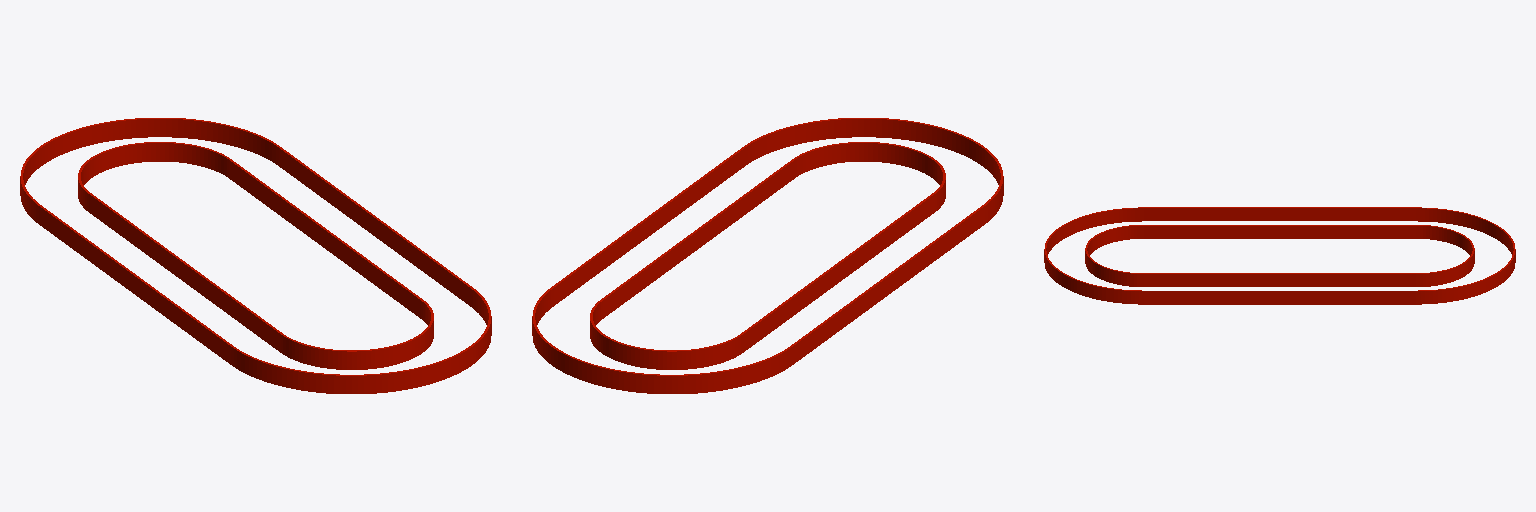
--- What the picture shows (computed from the rendered views, not written in the file) ---
Views: 3 orthographic renders of the robot side by side, from view 1: azimuth 30°, elevation 25°; view 2: azimuth 150°, elevation 25°; view 3: azimuth 270°, elevation 25°.
Model basic_racetrack with 76 links and 75 joints (75 fixed), rooted at left_in, posed all joints at 0.
Visible links, largest first — view 1: right_in, left_in, left_out, right_out; view 2: right_in, left_in, left_out, right_out; view 3: left_in, left_out, right_in, right_out.
Link boxes in pixels (left/top/right/bottom): right_in: left=229, top=159, right=422, bottom=318; left_in: left=89, top=193, right=282, bottom=352; left_out: left=39, top=205, right=232, bottom=364; right_out: left=279, top=147, right=471, bottom=305; right_in: left=601, top=159, right=794, bottom=318; left_in: left=741, top=193, right=934, bottom=352; left_out: left=791, top=205, right=984, bottom=364; right_out: left=552, top=147, right=744, bottom=305; left_in: left=1144, top=225, right=1415, bottom=238; left_out: left=1144, top=207, right=1415, bottom=220; right_in: left=1144, top=273, right=1415, bottom=286; right_out: left=1144, top=291, right=1415, bottom=304.
Bounding box of the posed robot: 10.2 × 24.2 × 0.75 m (x, y, z).
Meshes: 2 distinct files referenced, 72 mesh visuals loaded (2 binary STL).

URDF robot description (basic_racetrack):
<?xml version="1.0"?> 

<!-- Copyright 2023 Shathushan Sivashangaran -->

<!-- Licensed under the Apache License, Version 2.0 (the "License"); -->
<!-- you may not use this file except in compliance with the License. -->
<!-- You may obtain a copy of the License at -->

<!--     http://www.apache.org/licenses/LICENSE-2.0 -->

<!-- Unless required by applicable law or agreed to in writing, software -->
<!-- distributed under the License is distributed on an "AS IS" BASIS, -->
<!-- WITHOUT WARRANTIES OR CONDITIONS OF ANY KIND, either express or implied. -->
<!-- See the License for the specific language governing permissions and -->
<!-- limitations under the License. -->

<!-- Authors: Shathushan Sivashangaran, Apoorva Khairnar -->

<robot name="basic_racetrack">
    <link name="left_in">
        <visual>
            <origin xyz="-2.95 0 0.375" rpy="0 0 0" />
            <geometry>
                <box size='0.1 14 0.75'/>
            </geometry>
            <material name="red">
                <color rgba="0.8 0.1 0.0 1"/>
            </material>
        </visual>
        <collision>
            <origin xyz="-2.95 0 0.375" rpy="0 0 0" />
            <geometry>
                <box size='0.1 14 0.75'/>
            </geometry>
        </collision>
        <inertial>
            <mass value="10"/>
            <inertia ixx="0.4" ixy="0.0" ixz="0.0" iyy="0.4" iyz="0.0" izz="0.2" />
        </inertial>
    </link>
    <link name="left_out">
        <visual>
            <origin xyz="0 0 0.375" rpy="0 0 0" />
            <geometry>
                <box size='0.1 14 0.75'/>
            </geometry>
            <material name="red">
                <color rgba="0.8 0.1 0.0 1"/>
            </material>
        </visual>
        <collision>
            <origin xyz="0 0 0.375" rpy="0 0 0" />
            <geometry>
                <box size='0.1 14 0.75'/>
            </geometry>
        </collision>
        <inertial>
            <mass value="10"/>
            <inertia ixx="0.4" ixy="0.0" ixz="0.0" iyy="0.4" iyz="0.0" izz="0.2" />
        </inertial>
    </link>
    <joint name="left" type="fixed">
        <origin rpy="0 0 0" xyz="-5.05 0 0"/>
        <parent link="left_in"/>
        <child link="left_out"/>
    </joint>

    <link name="right_in">
        <visual>
            <origin xyz="0 0 0.375" rpy="0 0 0" />
            <geometry>
                <box size='0.1 14 0.75'/>
            </geometry>
            <material name="red">
                <color rgba="0.8 0.1 0.0 1"/>
            </material>
        </visual>
        <collision>
            <origin xyz="0 0 0.375" rpy="0 0 0" />
            <geometry>
                <box size='0.1 14 0.75'/>
            </geometry>
        </collision>
        <inertial>
            <mass value="10"/>
            <inertia ixx="0.4" ixy="0.0" ixz="0.0" iyy="0.4" iyz="0.0" izz="0.2" />
        </inertial>
    </link>
    <joint name="left_to_right" type="fixed">
        <origin rpy="0 0 0" xyz="2.95 0 0"/>
        <parent link="left_in"/>
        <child link="right_in"/>
    </joint>

    <link name="right_out">
        <visual>
            <origin xyz="0 0 0.375" rpy="0 0 0" />
            <geometry>
                <box size='0.1 14 0.75'/>
            </geometry>
            <material name="red">
                <color rgba="0.8 0.1 0.0 1"/>
            </material>
        </visual>
        <collision>
            <origin xyz="0 0 0.375" rpy="0 0 0" />
            <geometry>
                <box size='0.1 14 0.75'/>
            </geometry>
        </collision>
        <inertial>
            <mass value="10"/>
            <inertia ixx="0.4" ixy="0.0" ixz="0.0" iyy="0.4" iyz="0.0" izz="0.2" />
        </inertial>
    </link>
    <joint name="right" type="fixed">
        <origin rpy="0 0 0" xyz="2.1 0 0"/>
        <parent link="right_in"/>
        <child link="right_out"/>
    </joint>

    <!-- FRONT LEFT INNER CURVE START -->

    <link name="curve_in_fl_1">
        <visual>
            <origin xyz="0 0 0" rpy="0 0 0" />
            <geometry>
                <mesh filename='meshes/basic_racetrack_in_curve.stl'/>
            </geometry>
            <material name="red">
                <color rgba="0.8 0.1 0.0 1"/>
            </material>
        </visual>
        <collision>
            <origin xyz="0 0 0" rpy="0 0 0" />
            <geometry>
                <mesh filename='meshes/basic_racetrack_in_curve.stl'/>
            </geometry>
        </collision>
        <inertial>
            <mass value="10"/>
            <inertia ixx="0.4" ixy="0.0" ixz="0.0" iyy="0.4" iyz="0.0" izz="0.2" />
        </inertial>
    </link>    
    <joint name="curve_in_front_left1" type="fixed">
        <origin rpy="0 0 0" xyz="0 7 0"/>
        <parent link="left_in"/>
        <child link="curve_in_fl_1"/>
    </joint>

    <link name="curve_in_fl_2">
        <visual>
            <origin xyz="0 0 0" rpy="0 0 0" />
            <geometry>
                <mesh filename='meshes/basic_racetrack_in_curve.stl'/>
            </geometry>
            <material name="red">
                <color rgba="0.8 0.1 0.0 1"/>
            </material>
        </visual>
        <collision>
            <origin xyz="0 0 0" rpy="0 0 0" />
            <geometry>
                <mesh filename='meshes/basic_racetrack_in_curve.stl'/>
            </geometry>
        </collision>
        <inertial>
            <mass value="10"/>
            <inertia ixx="0.4" ixy="0.0" ixz="0.0" iyy="0.4" iyz="0.0" izz="0.2" />
        </inertial>
    </link>    
    <joint name="curve_in_front_left2" type="fixed">
        <origin rpy="0 0 -0.17456" xyz="0 7 0"/>
        <parent link="left_in"/>
        <child link="curve_in_fl_2"/>
    </joint>

    <link name="curve_in_fl_3">
        <visual>
            <origin xyz="0 0 0" rpy="0 0 0" />
            <geometry>
                <mesh filename='meshes/basic_racetrack_in_curve.stl'/>
            </geometry>
            <material name="red">
                <color rgba="0.8 0.1 0.0 1"/>
            </material>
        </visual>
        <collision>
            <origin xyz="0 0 0" rpy="0 0 0" />
            <geometry>
                <mesh filename='meshes/basic_racetrack_in_curve.stl'/>
            </geometry>
        </collision>
        <inertial>
            <mass value="10"/>
            <inertia ixx="0.4" ixy="0.0" ixz="0.0" iyy="0.4" iyz="0.0" izz="0.2" />
        </inertial>
    </link>    
    <joint name="curve_in_front_left3" type="fixed">
        <origin rpy="0 0 -0.34912" xyz="0 7 0"/>
        <parent link="left_in"/>
        <child link="curve_in_fl_3"/>
    </joint>

    <link name="curve_in_fl_4">
        <visual>
            <origin xyz="0 0 0" rpy="0 0 0" />
            <geometry>
                <mesh filename='meshes/basic_racetrack_in_curve.stl'/>
            </geometry>
            <material name="red">
                <color rgba="0.8 0.1 0.0 1"/>
            </material>
        </visual>
        <collision>
            <origin xyz="0 0 0" rpy="0 0 0" />
            <geometry>
                <mesh filename='meshes/basic_racetrack_in_curve.stl'/>
            </geometry>
        </collision>
        <inertial>
            <mass value="10"/>
            <inertia ixx="0.4" ixy="0.0" ixz="0.0" iyy="0.4" iyz="0.0" izz="0.2" />
        </inertial>
    </link>    
    <joint name="curve_in_front_left4" type="fixed">
        <origin rpy="0 0 -0.52368" xyz="0 7 0"/>
        <parent link="left_in"/>
        <child link="curve_in_fl_4"/>
    </joint>

    <link name="curve_in_fl_5">
        <visual>
            <origin xyz="0 0 0" rpy="0 0 0" />
            <geometry>
                <mesh filename='meshes/basic_racetrack_in_curve.stl'/>
            </geometry>
            <material name="red">
                <color rgba="0.8 0.1 0.0 1"/>
            </material>
        </visual>
        <collision>
            <origin xyz="0 0 0" rpy="0 0 0" />
            <geometry>
                <mesh filename='meshes/basic_racetrack_in_curve.stl'/>
            </geometry>
        </collision>
        <inertial>
            <mass value="10"/>
            <inertia ixx="0.4" ixy="0.0" ixz="0.0" iyy="0.4" iyz="0.0" izz="0.2" />
        </inertial>
    </link>    
    <joint name="curve_in_front_left5" type="fixed">
        <origin rpy="0 0 -0.69824" xyz="0 7 0"/>
        <parent link="left_in"/>
        <child link="curve_in_fl_5"/>
    </joint>

    <link name="curve_in_fl_6">
        <visual>
            <origin xyz="0 0 0" rpy="0 0 0" />
            <geometry>
                <mesh filename='meshes/basic_racetrack_in_curve.stl'/>
            </geometry>
            <material name="red">
                <color rgba="0.8 0.1 0.0 1"/>
            </material>
        </visual>
        <collision>
            <origin xyz="0 0 0" rpy="0 0 0" />
            <geometry>
                <mesh filename='meshes/basic_racetrack_in_curve.stl'/>
            </geometry>
        </collision>
        <inertial>
            <mass value="10"/>
            <inertia ixx="0.4" ixy="0.0" ixz="0.0" iyy="0.4" iyz="0.0" izz="0.2" />
        </inertial>
    </link>    
    <joint name="curve_in_front_left6" type="fixed">
        <origin rpy="0 0 -0.8728" xyz="0 7 0"/>
        <parent link="left_in"/>
        <child link="curve_in_fl_6"/>
    </joint>

    <link name="curve_in_fl_7">
        <visual>
            <origin xyz="0 0 0" rpy="0 0 0" />
            <geometry>
                <mesh filename='meshes/basic_racetrack_in_curve.stl'/>
            </geometry>
            <material name="red">
                <color rgba="0.8 0.1 0.0 1"/>
            </material>
        </visual>
        <collision>
            <origin xyz="0 0 0" rpy="0 0 0" />
            <geometry>
                <mesh filename='meshes/basic_racetrack_in_curve.stl'/>
            </geometry>
        </collision>
        <inertial>
            <mass value="10"/>
            <inertia ixx="0.4" ixy="0.0" ixz="0.0" iyy="0.4" iyz="0.0" izz="0.2" />
        </inertial>
    </link>    
    <joint name="curve_in_front_left7" type="fixed">
        <origin rpy="0 0 -1.04736" xyz="0 7 0"/>
        <parent link="left_in"/>
        <child link="curve_in_fl_7"/>
    </joint>

    <link name="curve_in_fl_8">
        <visual>
            <origin xyz="0 0 0" rpy="0 0 0" />
            <geometry>
                <mesh filename='meshes/basic_racetrack_in_curve.stl'/>
            </geometry>
            <material name="red">
                <color rgba="0.8 0.1 0.0 1"/>
            </material>
        </visual>
        <collision>
            <origin xyz="0 0 0" rpy="0 0 0" />
            <geometry>
                <mesh filename='meshes/basic_racetrack_in_curve.stl'/>
            </geometry>
        </collision>
        <inertial>
            <mass value="10"/>
            <inertia ixx="0.4" ixy="0.0" ixz="0.0" iyy="0.4" iyz="0.0" izz="0.2" />
        </inertial>
    </link>    
    <joint name="curve_in_front_left8" type="fixed">
        <origin rpy="0 0 -1.22192" xyz="0 7 0"/>
        <parent link="left_in"/>
        <child link="curve_in_fl_8"/>
    </joint>

    <link name="curve_in_fl_9">
        <visual>
            <origin xyz="0 0 0" rpy="0 0 0" />
            <geometry>
                <mesh filename='meshes/basic_racetrack_in_curve.stl'/>
            </geometry>
            <material name="red">
                <color rgba="0.8 0.1 0.0 1"/>
            </material>
        </visual>
        <collision>
            <origin xyz="0 0 0" rpy="0 0 0" />
            <geometry>
                <mesh filename='meshes/basic_racetrack_in_curve.stl'/>
            </geometry>
        </collision>
        <inertial>
            <mass value="10"/>
            <inertia ixx="0.4" ixy="0.0" ixz="0.0" iyy="0.4" iyz="0.0" izz="0.2" />
        </inertial>
    </link>    
    <joint name="curve_in_front_left9" type="fixed">
        <origin rpy="0 0 -1.39648" xyz="0 7 0"/>
        <parent link="left_in"/>
        <child link="curve_in_fl_9"/>
    </joint>

    <!-- FRONT LEFT INNER CURVE END -->

    <!-- BACK LEFT INNER CURVE START -->

    <link name="curve_in_bl_1">
        <visual>
            <origin xyz="0 0 0" rpy="0 0 0" />
            <geometry>
                <mesh filename='meshes/basic_racetrack_in_curve.stl'/>
            </geometry>
            <material name="red">
                <color rgba="0.8 0.1 0.0 1"/>
            </material>
        </visual>
        <collision>
            <origin xyz="0 0 0" rpy="0 0 0" />
            <geometry>
                <mesh filename='meshes/basic_racetrack_in_curve.stl'/>
            </geometry>
        </collision>
        <inertial>
            <mass value="10"/>
            <inertia ixx="0.4" ixy="0.0" ixz="0.0" iyy="0.4" iyz="0.0" izz="0.2" />
        </inertial>
    </link>    
    <joint name="curve_in_back_left1" type="fixed">
        <origin rpy="0 0 0.17456" xyz="0 -7 0"/>
        <parent link="left_in"/>
        <child link="curve_in_bl_1"/>
    </joint>

    <link name="curve_in_bl_2">
        <visual>
            <origin xyz="0 0 0" rpy="0 0 0" />
            <geometry>
                <mesh filename='meshes/basic_racetrack_in_curve.stl'/>
            </geometry>
            <material name="red">
                <color rgba="0.8 0.1 0.0 1"/>
            </material>
        </visual>
        <collision>
            <origin xyz="0 0 0" rpy="0 0 0" />
            <geometry>
                <mesh filename='meshes/basic_racetrack_in_curve.stl'/>
            </geometry>
        </collision>
        <inertial>
            <mass value="10"/>
            <inertia ixx="0.4" ixy="0.0" ixz="0.0" iyy="0.4" iyz="0.0" izz="0.2" />
        </inertial>
    </link>    
    <joint name="curve_in_back_left2" type="fixed">
        <origin rpy="0 0 0.34912" xyz="0 -7 0"/>
        <parent link="left_in"/>
        <child link="curve_in_bl_2"/>
    </joint>

    <link name="curve_in_bl_3">
        <visual>
            <origin xyz="0 0 0" rpy="0 0 0" />
            <geometry>
                <mesh filename='meshes/basic_racetrack_in_curve.stl'/>
            </geometry>
            <material name="red">
                <color rgba="0.8 0.1 0.0 1"/>
            </material>
        </visual>
        <collision>
            <origin xyz="0 0 0" rpy="0 0 0" />
            <geometry>
                <mesh filename='meshes/basic_racetrack_in_curve.stl'/>
            </geometry>
        </collision>
        <inertial>
            <mass value="10"/>
            <inertia ixx="0.4" ixy="0.0" ixz="0.0" iyy="0.4" iyz="0.0" izz="0.2" />
        </inertial>
    </link>    
    <joint name="curve_in_back_left3" type="fixed">
        <origin rpy="0 0 0.52368" xyz="0 -7 0"/>
        <parent link="left_in"/>
        <child link="curve_in_bl_3"/>
    </joint>

    <link name="curve_in_bl_4">
        <visual>
            <origin xyz="0 0 0" rpy="0 0 0" />
            <geometry>
                <mesh filename='meshes/basic_racetrack_in_curve.stl'/>
            </geometry>
            <material name="red">
                <color rgba="0.8 0.1 0.0 1"/>
            </material>
        </visual>
        <collision>
            <origin xyz="0 0 0" rpy="0 0 0" />
            <geometry>
                <mesh filename='meshes/basic_racetrack_in_curve.stl'/>
            </geometry>
        </collision>
        <inertial>
            <mass value="10"/>
            <inertia ixx="0.4" ixy="0.0" ixz="0.0" iyy="0.4" iyz="0.0" izz="0.2" />
        </inertial>
    </link>    
    <joint name="curve_in_back_left4" type="fixed">
        <origin rpy="0 0 0.69824" xyz="0 -7 0"/>
        <parent link="left_in"/>
        <child link="curve_in_bl_4"/>
    </joint>

    <link name="curve_in_bl_5">
        <visual>
            <origin xyz="0 0 0" rpy="0 0 0" />
            <geometry>
                <mesh filename='meshes/basic_racetrack_in_curve.stl'/>
            </geometry>
            <material name="red">
                <color rgba="0.8 0.1 0.0 1"/>
            </material>
        </visual>
        <collision>
            <origin xyz="0 0 0" rpy="0 0 0" />
            <geometry>
                <mesh filename='meshes/basic_racetrack_in_curve.stl'/>
            </geometry>
        </collision>
        <inertial>
            <mass value="10"/>
            <inertia ixx="0.4" ixy="0.0" ixz="0.0" iyy="0.4" iyz="0.0" izz="0.2" />
        </inertial>
    </link>    
    <joint name="curve_in_back_left5" type="fixed">
        <origin rpy="0 0 0.8728" xyz="0 -7 0"/>
        <parent link="left_in"/>
        <child link="curve_in_bl_5"/>
    </joint>

    <link name="curve_in_bl_6">
        <visual>
            <origin xyz="0 0 0" rpy="0 0 0" />
            <geometry>
                <mesh filename='meshes/basic_racetrack_in_curve.stl'/>
            </geometry>
            <material name="red">
                <color rgba="0.8 0.1 0.0 1"/>
            </material>
        </visual>
        <collision>
            <origin xyz="0 0 0" rpy="0 0 0" />
            <geometry>
                <mesh filename='meshes/basic_racetrack_in_curve.stl'/>
            </geometry>
        </collision>
        <inertial>
            <mass value="10"/>
            <inertia ixx="0.4" ixy="0.0" ixz="0.0" iyy="0.4" iyz="0.0" izz="0.2" />
        </inertial>
    </link>    
    <joint name="curve_in_back_left6" type="fixed">
        <origin rpy="0 0 1.04736" xyz="0 -7 0"/>
        <parent link="left_in"/>
        <child link="curve_in_bl_6"/>
    </joint>

    <link name="curve_in_bl_7">
        <visual>
            <origin xyz="0 0 0" rpy="0 0 0" />
            <geometry>
                <mesh filename='meshes/basic_racetrack_in_curve.stl'/>
            </geometry>
            <material name="red">
                <color rgba="0.8 0.1 0.0 1"/>
            </material>
        </visual>
        <collision>
            <origin xyz="0 0 0" rpy="0 0 0" />
            <geometry>
                <mesh filename='meshes/basic_racetrack_in_curve.stl'/>
            </geometry>
        </collision>
        <inertial>
            <mass value="10"/>
            <inertia ixx="0.4" ixy="0.0" ixz="0.0" iyy="0.4" iyz="0.0" izz="0.2" />
        </inertial>
    </link>    
    <joint name="curve_in_back_left7" type="fixed">
        <origin rpy="0 0 1.22192" xyz="0 -7 0"/>
        <parent link="left_in"/>
        <child link="curve_in_bl_7"/>
    </joint>

    <link name="curve_in_bl_8">
        <visual>
            <origin xyz="0 0 0" rpy="0 0 0" />
            <geometry>
                <mesh filename='meshes/basic_racetrack_in_curve.stl'/>
            </geometry>
            <material name="red">
                <color rgba="0.8 0.1 0.0 1"/>
            </material>
        </visual>
        <collision>
            <origin xyz="0 0 0" rpy="0 0 0" />
            <geometry>
                <mesh filename='meshes/basic_racetrack_in_curve.stl'/>
            </geometry>
        </collision>
        <inertial>
            <mass value="10"/>
            <inertia ixx="0.4" ixy="0.0" ixz="0.0" iyy="0.4" iyz="0.0" izz="0.2" />
        </inertial>
    </link>    
    <joint name="curve_in_back_left8" type="fixed">
        <origin rpy="0 0 1.39648" xyz="0 -7 0"/>
        <parent link="left_in"/>
        <child link="curve_in_bl_8"/>
    </joint>

    <link name="curve_in_bl_9">
        <visual>
            <origin xyz="0 0 0" rpy="0 0 0" />
            <geometry>
                <mesh filename='meshes/basic_racetrack_in_curve.stl'/>
            </geometry>
            <material name="red">
                <color rgba="0.8 0.1 0.0 1"/>
            </material>
        </visual>
        <collision>
            <origin xyz="0 0 0" rpy="0 0 0" />
            <geometry>
                <mesh filename='meshes/basic_racetrack_in_curve.stl'/>
            </geometry>
        </collision>
        <inertial>
            <mass value="10"/>
            <inertia ixx="0.4" ixy="0.0" ixz="0.0" iyy="0.4" iyz="0.0" izz="0.2" />
        </inertial>
    </link>    
    <joint name="curve_in_back_left9" type="fixed">
        <origin rpy="0 0 1.57104" xyz="0 -7 0"/>
        <parent link="left_in"/>
        <child link="curve_in_bl_9"/>
    </joint>

    <!-- BACK LEFT INNER CURVE END   -->

    <!-- FRONT RIGHT INNER CURVE START -->

    <link name="curve_in_fr_1">
        <visual>
            <origin xyz="0 0 0" rpy="0 0 0" />
            <geometry>
                <mesh filename='meshes/basic_racetrack_in_curve.stl'/>
            </geometry>
            <material name="red">
                <color rgba="0.8 0.1 0.0 1"/>
            </material>
        </visual>
        <collision>
            <origin xyz="0 0 0" rpy="0 0 0" />
            <geometry>
                <mesh filename='meshes/basic_racetrack_in_curve.stl'/>
            </geometry>
        </collision>
        <inertial>
            <mass value="10"/>
            <inertia ixx="0.4" ixy="0.0" ixz="0.0" iyy="0.4" iyz="0.0" izz="0.2" />
        </inertial>
    </link>    
    <joint name="curve_in_front_right1" type="fixed">
        <origin rpy="0 0 -1.57104" xyz="0 7 0"/>
        <parent link="left_in"/>
        <child link="curve_in_fr_1"/>
    </joint>

    <link name="curve_in_fr_2">
        <visual>
            <origin xyz="0 0 0" rpy="0 0 0" />
            <geometry>
                <mesh filename='meshes/basic_racetrack_in_curve.stl'/>
            </geometry>
            <material name="red">
                <color rgba="0.8 0.1 0.0 1"/>
            </material>
        </visual>
        <collision>
            <origin xyz="0 0 0" rpy="0 0 0" />
            <geometry>
                <mesh filename='meshes/basic_racetrack_in_curve.stl'/>
            </geometry>
        </collision>
        <inertial>
            <mass value="10"/>
            <inertia ixx="0.4" ixy="0.0" ixz="0.0" iyy="0.4" iyz="0.0" izz="0.2" />
        </inertial>
    </link>    
    <joint name="curve_in_front_right2" type="fixed">
        <origin rpy="0 0 -1.7456" xyz="0 7 0"/>
        <parent link="left_in"/>
        <child link="curve_in_fr_2"/>
    </joint>

    <link name="curve_in_fr_3">
        <visual>
            <origin xyz="0 0 0" rpy="0 0 0" />
            <geometry>
                <mesh filename='meshes/basic_racetrack_in_curve.stl'/>
            </geometry>
            <material name="red">
                <color rgba="0.8 0.1 0.0 1"/>
            </material>
        </visual>
        <collision>
            <origin xyz="0 0 0" rpy="0 0 0" />
            <geometry>
                <mesh filename='meshes/basic_racetrack_in_curve.stl'/>
            </geometry>
        </collision>
        <inertial>
            <mass value="10"/>
            <inertia ixx="0.4" ixy="0.0" ixz="0.0" iyy="0.4" iyz="0.0" izz="0.2" />
        </inertial>
    </link>    
    <joint name="curve_in_front_right3" type="fixed">
        <origin rpy="0 0 -1.92016" xyz="0 7 0"/>
        <parent link="left_in"/>
        <child link="curve_in_fr_3"/>
    </joint>

    <link name="curve_in_fr_4">
        <visual>
            <origin xyz="0 0 0" rpy="0 0 0" />
            <geometry>
                <mesh filename='meshes/basic_racetrack_in_curve.stl'/>
            </geometry>
            <material name="red">
                <color rgba="0.8 0.1 0.0 1"/>
            </material>
        </visual>
        <collision>
            <origin xyz="0 0 0" rpy="0 0 0" />
            <geometry>
                <mesh filename='meshes/basic_racetrack_in_curve.stl'/>
            </geometry>
        </collision>
        <inertial>
            <mass value="10"/>
            <inertia ixx="0.4" ixy="0.0" ixz="0.0" iyy="0.4" iyz="0.0" izz="0.2" />
        </inertial>
    </link>    
    <joint name="curve_in_front_right4" type="fixed">
        <origin rpy="0 0 -2.09472" xyz="0 7 0"/>
        <parent link="left_in"/>
        <child link="curve_in_fr_4"/>
    </joint>

    <link name="curve_in_fr_5">
        <visual>
            <origin xyz="0 0 0" rpy="0 0 0" />
            <geometry>
                <mesh filename='meshes/basic_racetrack_in_curve.stl'/>
            </geometry>
            <material name="red">
                <color rgba="0.8 0.1 0.0 1"/>
            </material>
        </visual>
        <collision>
            <origin xyz="0 0 0" rpy="0 0 0" />
            <geometry>
                <mesh filename='meshes/basic_racetrack_in_curve.stl'/>
            </geometry>
        </collision>
        <inertial>
            <mass value="10"/>
            <inertia ixx="0.4" ixy="0.0" ixz="0.0" iyy="0.4" iyz="0.0" izz="0.2" />
        </inertial>
    </link>    
    <joint name="curve_in_front_right5" type="fixed">
        <origin rpy="0 0 -2.26928" xyz="0 7 0"/>
        <parent link="left_in"/>
        <child link="curve_in_fr_5"/>
    </joint>

    <link name="curve_in_fr_6">
        <visual>
            <origin xyz="0 0 0" rpy="0 0 0" />
            <geometry>
                <mesh filename='meshes/basic_racetrack_in_curve.stl'/>
            </geometry>
            <material name="red">
                <color rgba="0.8 0.1 0.0 1"/>
            </material>
        </visual>
        <collision>
            <origin xyz="0 0 0" rpy="0 0 0" />
            <geometry>
                <mesh filename='meshes/basic_racetrack_in_curve.stl'/>
            </geometry>
        </collision>
        <inertial>
            <mass value="10"/>
            <inertia ixx="0.4" ixy="0.0" ixz="0.0" iyy="0.4" iyz="0.0" izz="0.2" />
        </inertial>
    </link>    
    <joint name="curve_in_front_right6" type="fixed">
        <origin rpy="0 0 -2.44384" xyz="0 7 0"/>
        <parent link="left_in"/>
        <child link="curve_in_fr_6"/>
    </joint>

    <link name="curve_in_fr_7">
        <visual>
            <origin xyz="0 0 0" rpy="0 0 0" />
            <geometry>
                <mesh filename='meshes/basic_racetrack_in_curve.stl'/>
            </geometry>
            <material name="red">
                <color rgba="0.8 0.1 0.0 1"/>
            </material>
        </visual>
        <collision>
            <origin xyz="0 0 0" rpy="0 0 0" />
            <geometry>
                <mesh filename='meshes/basic_racetrack_in_curve.stl'/>
            </geometry>
        </collision>
        <inertial>
            <mass value="10"/>
            <inertia ixx="0.4" ixy="0.0" ixz="0.0" iyy="0.4" iyz="0.0" izz="0.2" />
        </inertial>
    </link>    
    <joint name="curve_in_front_right7" type="fixed">
        <origin rpy="0 0 -2.6184" xyz="0 7 0"/>
        <parent link="left_in"/>
        <child link="curve_in_fr_7"/>
    </joint>

    <link name="curve_in_fr_8">
        <visual>
            <origin xyz="0 0 0" rpy="0 0 0" />
            <geometry>
                <mesh filename='meshes/basic_racetrack_in_curve.stl'/>
            </geometry>
            <material name="red">
                <color rgba="0.8 0.1 0.0 1"/>
            </material>
        </visual>
        <collision>
            <origin xyz="0 0 0" rpy="0 0 0" />
            <geometry>
                <mesh filename='meshes/basic_racetrack_in_curve.stl'/>
            </geometry>
        </collision>
        <inertial>
            <mass value="10"/>
            <inertia ixx="0.4" ixy="0.0" ixz="0.0" iyy="0.4" iyz="0.0" izz="0.2" />
        </inertial>
    </link>    
    <joint name="curve_in_front_right8" type="fixed">
        <origin rpy="0 0 -2.79296" xyz="0 7 0"/>
        <parent link="left_in"/>
        <child link="curve_in_fr_8"/>
    </joint>

    <link name="curve_in_fr_9">
        <visual>
            <origin xyz="0 0 0" rpy="0 0 0" />
            <geometry>
                <mesh filename='meshes/basic_racetrack_in_curve.stl'/>
            </geometry>
            <material name="red">
                <color rgba="0.8 0.1 0.0 1"/>
            </material>
        </visual>
        <collision>
            <origin xyz="0 0 0" rpy="0 0 0" />
            <geometry>
                <mesh filename='meshes/basic_racetrack_in_curve.stl'/>
            </geometry>
        </collision>
        <inertial>
            <mass value="10"/>
            <inertia ixx="0.4" ixy="0.0" ixz="0.0" iyy="0.4" iyz="0.0" izz="0.2" />
        </inertial>
    </link>    
    <joint name="curve_in_front_right9" type="fixed">
        <origin rpy="0 0 -2.96752" xyz="0 7 0"/>
        <parent link="left_in"/>
        <child link="curve_in_fr_9"/>
    </joint>

    <!-- FRONT RIGHT INNER CURVE END -->

    <!-- BACK RIGHT INNER CURVE START -->

    <link name="curve_in_br_1">
        <visual>
            <origin xyz="0 0 0" rpy="0 0 0" />
            <geometry>
                <mesh filename='meshes/basic_racetrack_in_curve.stl'/>
            </geometry>
            <material name="red">
                <color rgba="0.8 0.1 0.0 1"/>
            </material>
        </visual>
        <collision>
            <origin xyz="0 0 0" rpy="0 0 0" />
            <geometry>
                <mesh filename='meshes/basic_racetrack_in_curve.stl'/>
            </geometry>
        </collision>
        <inertial>
            <mass value="10"/>
            <inertia ixx="0.4" ixy="0.0" ixz="0.0" iyy="0.4" iyz="0.0" izz="0.2" />
        </inertial>
    </link>    
    <joint name="curve_in_back_right1" type="fixed">
        <origin rpy="0 0 1.7456" xyz="0 -7 0"/>
        <parent link="left_in"/>
        <child link="curve_in_br_1"/>
    </joint>

    <link name="curve_in_br_2">
        <visual>
            <origin xyz="0 0 0" rpy="0 0 0" />
            <geometry>
                <mesh filename='meshes/basic_racetrack_in_curve.stl'/>
            </geometry>
            <material name="red">
                <color rgba="0.8 0.1 0.0 1"/>
            </material>
        </visual>
        <collision>
            <origin xyz="0 0 0" rpy="0 0 0" />
            <geometry>
                <mesh filename='meshes/basic_racetrack_in_curve.stl'/>
            </geometry>
        </collision>
        <inertial>
            <mass value="10"/>
            <inertia ixx="0.4" ixy="0.0" ixz="0.0" iyy="0.4" iyz="0.0" izz="0.2" />
        </inertial>
    </link>    
    <joint name="curve_in_back_right2" type="fixed">
        <origin rpy="0 0 1.92016" xyz="0 -7 0"/>
        <parent link="left_in"/>
        <child link="curve_in_br_2"/>
    </joint>

    <link name="curve_in_br_3">
        <visual>
            <origin xyz="0 0 0" rpy="0 0 0" />
            <geometry>
                <mesh filename='meshes/basic_racetrack_in_curve.stl'/>
            </geometry>
            <material name="red">
                <color rgba="0.8 0.1 0.0 1"/>
            </material>
        </visual>
        <collision>
            <origin xyz="0 0 0" rpy="0 0 0" />
            <geometry>
                <mesh filename='meshes/basic_racetrack_in_curve.stl'/>
            </geometry>
        </collision>
        <inertial>
            <mass value="10"/>
            <inertia ixx="0.4" ixy="0.0" ixz="0.0" iyy="0.4" iyz="0.0" izz="0.2" />
        </inertial>
    </link>    
    <joint name="curve_in_back_right3" type="fixed">
        <origin rpy="0 0 2.09472" xyz="0 -7 0"/>
        <parent link="left_in"/>
        <child link="curve_in_br_3"/>
    </joint>

    <link name="curve_in_br_4">
        <visual>
            <origin xyz="0 0 0" rpy="0 0 0" />
            <geometry>
                <mesh filename='meshes/basic_racetrack_in_curve.stl'/>
            </geometry>
            <material name="red">
                <color rgba="0.8 0.1 0.0 1"/>
            </material>
        </visual>
        <collision>
            <origin xyz="0 0 0" rpy="0 0 0" />
            <geometry>
                <mesh filename='meshes/basic_racetrack_in_curve.stl'/>
            </geometry>
        </collision>
        <inertial>
            <mass value="10"/>
            <inertia ixx="0.4" ixy="0.0" ixz="0.0" iyy="0.4" iyz="0.0" izz="0.2" />
        </inertial>
    </link>    
    <joint name="curve_in_back_right4" type="fixed">
        <origin rpy="0 0 2.26928" xyz="0 -7 0"/>
        <parent link="left_in"/>
        <child link="curve_in_br_4"/>
    </joint>

    <link name="curve_in_br_5">
        <visual>
            <origin xyz="0 0 0" rpy="0 0 0" />
            <geometry>
                <mesh filename='meshes/basic_racetrack_in_curve.stl'/>
            </geometry>
            <material name="red">
                <color rgba="0.8 0.1 0.0 1"/>
            </material>
        </visual>
        <collision>
            <origin xyz="0 0 0" rpy="0 0 0" />
            <geometry>
                <mesh filename='meshes/basic_racetrack_in_curve.stl'/>
            </geometry>
        </collision>
        <inertial>
            <mass value="10"/>
            <inertia ixx="0.4" ixy="0.0" ixz="0.0" iyy="0.4" iyz="0.0" izz="0.2" />
        </inertial>
    </link>    
    <joint name="curve_in_back_right5" type="fixed">
        <origin rpy="0 0 2.44384" xyz="0 -7 0"/>
        <parent link="left_in"/>
        <child link="curve_in_br_5"/>
    </joint>

    <link name="curve_in_br_6">
        <visual>
            <origin xyz="0 0 0" rpy="0 0 0" />
            <geometry>
                <mesh filename='meshes/basic_racetrack_in_curve.stl'/>
            </geometry>
            <material name="red">
                <color rgba="0.8 0.1 0.0 1"/>
            </material>
        </visual>
        <collision>
            <origin xyz="0 0 0" rpy="0 0 0" />
            <geometry>
                <mesh filename='meshes/basic_racetrack_in_curve.stl'/>
            </geometry>
        </collision>
        <inertial>
            <mass value="10"/>
            <inertia ixx="0.4" ixy="0.0" ixz="0.0" iyy="0.4" iyz="0.0" izz="0.2" />
        </inertial>
    </link>    
    <joint name="curve_in_back_right6" type="fixed">
        <origin rpy="0 0 2.6184" xyz="0 -7 0"/>
        <parent link="left_in"/>
        <child link="curve_in_br_6"/>
    </joint>

    <link name="curve_in_br_7">
        <visual>
            <origin xyz="0 0 0" rpy="0 0 0" />
            <geometry>
                <mesh filename='meshes/basic_racetrack_in_curve.stl'/>
            </geometry>
            <material name="red">
                <color rgba="0.8 0.1 0.0 1"/>
            </material>
        </visual>
        <collision>
            <origin xyz="0 0 0" rpy="0 0 0" />
            <geometry>
                <mesh filename='meshes/basic_racetrack_in_curve.stl'/>
            </geometry>
        </collision>
        <inertial>
            <mass value="10"/>
            <inertia ixx="0.4" ixy="0.0" ixz="0.0" iyy="0.4" iyz="0.0" izz="0.2" />
        </inertial>
    </link>    
    <joint name="curve_in_back_right7" type="fixed">
        <origin rpy="0 0 2.79296" xyz="0 -7 0"/>
        <parent link="left_in"/>
        <child link="curve_in_br_7"/>
    </joint>

    <link name="curve_in_br_8">
        <visual>
            <origin xyz="0 0 0" rpy="0 0 0" />
            <geometry>
                <mesh filename='meshes/basic_racetrack_in_curve.stl'/>
            </geometry>
            <material name="red">
                <color rgba="0.8 0.1 0.0 1"/>
            </material>
        </visual>
        <collision>
            <origin xyz="0 0 0" rpy="0 0 0" />
            <geometry>
                <mesh filename='meshes/basic_racetrack_in_curve.stl'/>
            </geometry>
        </collision>
        <inertial>
            <mass value="10"/>
            <inertia ixx="0.4" ixy="0.0" ixz="0.0" iyy="0.4" iyz="0.0" izz="0.2" />
        </inertial>
    </link>    
    <joint name="curve_in_back_right8" type="fixed">
        <origin rpy="0 0 2.96752" xyz="0 -7 0"/>
        <parent link="left_in"/>
        <child link="curve_in_br_8"/>
    </joint>

    <link name="curve_in_br_9">
        <visual>
            <origin xyz="0 0 0" rpy="0 0 0" />
            <geometry>
                <mesh filename='meshes/basic_racetrack_in_curve.stl'/>
            </geometry>
            <material name="red">
                <color rgba="0.8 0.1 0.0 1"/>
            </material>
        </visual>
        <collision>
            <origin xyz="0 0 0" rpy="0 0 0" />
            <geometry>
                <mesh filename='meshes/basic_racetrack_in_curve.stl'/>
            </geometry>
        </collision>
        <inertial>
            <mass value="10"/>
            <inertia ixx="0.4" ixy="0.0" ixz="0.0" iyy="0.4" iyz="0.0" izz="0.2" />
        </inertial>
    </link>    
    <joint name="curve_in_back_right9" type="fixed">
        <origin rpy="0 0 3.14208" xyz="0 -7 0"/>
        <parent link="left_in"/>
        <child link="curve_in_br_9"/>
    </joint>

    <!-- BACK RIGHT INNER CURVE END -->

    <!-- FRONT LEFT INNER CURVE START -->
    
    <link name="curve_out_fl_1">
        <visual>
            <origin xyz="0 0 0" rpy="0 0 0" />
            <geometry>
                <mesh filename='meshes/basic_racetrack_out_curve.stl'/>
            </geometry>
            <material name="red">
                <color rgba="0.8 0.1 0.0 1"/>
            </material>
        </visual>
        <collision>
            <origin xyz="0 0 0" rpy="0 0 0" />
            <geometry>
                <mesh filename='meshes/basic_racetrack_out_curve.stl'/>
            </geometry>
        </collision>
        <inertial>
            <mass value="10"/>
            <inertia ixx="0.4" ixy="0.0" ixz="0.0" iyy="0.4" iyz="0.0" izz="0.2" />
        </inertial>
    </link>    
    <joint name="curve_out_front_left1" type="fixed">
        <origin rpy="0 0 0" xyz="0 7 0"/>
        <parent link="left_in"/>
        <child link="curve_out_fl_1"/>
    </joint>

    <link name="curve_out_fl_2">
        <visual>
            <origin xyz="0 0 0" rpy="0 0 0" />
            <geometry>
                <mesh filename='meshes/basic_racetrack_out_curve.stl'/>
            </geometry>
            <material name="red">
                <color rgba="0.8 0.1 0.0 1"/>
            </material>
        </visual>
        <collision>
            <origin xyz="0 0 0" rpy="0 0 0" />
            <geometry>
                <mesh filename='meshes/basic_racetrack_out_curve.stl'/>
            </geometry>
        </collision>
        <inertial>
            <mass value="10"/>
            <inertia ixx="0.4" ixy="0.0" ixz="0.0" iyy="0.4" iyz="0.0" izz="0.2" />
        </inertial>
    </link>    
    <joint name="curve_out_front_left2" type="fixed">
        <origin rpy="0 0 -0.17456" xyz="0 7 0"/>
        <parent link="left_in"/>
        <child link="curve_out_fl_2"/>
    </joint>

    <link name="curve_out_fl_3">
        <visual>
            <origin xyz="0 0 0" rpy="0 0 0" />
            <geometry>
                <mesh filename='meshes/basic_racetrack_out_curve.stl'/>
            </geometry>
            <material name="red">
                <color rgba="0.8 0.1 0.0 1"/>
            </material>
        </visual>
        <collision>
            <origin xyz="0 0 0" rpy="0 0 0" />
            <geometry>
                <mesh filename='meshes/basic_racetrack_out_curve.stl'/>
            </geometry>
        </collision>
        <inertial>
            <mass value="10"/>
            <inertia ixx="0.4" ixy="0.0" ixz="0.0" iyy="0.4" iyz="0.0" izz="0.2" />
        </inertial>
    </link>    
    <joint name="curve_out_front_left3" type="fixed">
        <origin rpy="0 0 -0.34912" xyz="0 7 0"/>
        <parent link="left_in"/>
        <child link="curve_out_fl_3"/>
    </joint>

    <link name="curve_out_fl_4">
        <visual>
            <origin xyz="0 0 0" rpy="0 0 0" />
            <geometry>
                <mesh filename='meshes/basic_racetrack_out_curve.stl'/>
            </geometry>
            <material name="red">
                <color rgba="0.8 0.1 0.0 1"/>
            </material>
        </visual>
        <collision>
            <origin xyz="0 0 0" rpy="0 0 0" />
            <geometry>
                <mesh filename='meshes/basic_racetrack_out_curve.stl'/>
            </geometry>
        </collision>
        <inertial>
            <mass value="10"/>
            <inertia ixx="0.4" ixy="0.0" ixz="0.0" iyy="0.4" iyz="0.0" izz="0.2" />
        </inertial>
    </link>    
    <joint name="curve_out_front_left4" type="fixed">
        <origin rpy="0 0 -0.52368" xyz="0 7 0"/>
        <parent link="left_in"/>
        <child link="curve_out_fl_4"/>
    </joint>

    <link name="curve_out_fl_5">
        <visual>
            <origin xyz="0 0 0" rpy="0 0 0" />
            <geometry>
                <mesh filename='meshes/basic_racetrack_out_curve.stl'/>
            </geometry>
            <material name="red">
                <color rgba="0.8 0.1 0.0 1"/>
            </material>
        </visual>
        <collision>
            <origin xyz="0 0 0" rpy="0 0 0" />
            <geometry>
                <mesh filename='meshes/basic_racetrack_out_curve.stl'/>
            </geometry>
        </collision>
        <inertial>
            <mass value="10"/>
            <inertia ixx="0.4" ixy="0.0" ixz="0.0" iyy="0.4" iyz="0.0" izz="0.2" />
        </inertial>
    </link>    
    <joint name="curve_out_front_left5" type="fixed">
        <origin rpy="0 0 -0.69824" xyz="0 7 0"/>
        <parent link="left_in"/>
        <child link="curve_out_fl_5"/>
    </joint>

    <link name="curve_out_fl_6">
        <visual>
            <origin xyz="0 0 0" rpy="0 0 0" />
            <geometry>
                <mesh filename='meshes/basic_racetrack_out_curve.stl'/>
            </geometry>
            <material name="red">
                <color rgba="0.8 0.1 0.0 1"/>
            </material>
        </visual>
        <collision>
            <origin xyz="0 0 0" rpy="0 0 0" />
            <geometry>
                <mesh filename='meshes/basic_racetrack_out_curve.stl'/>
            </geometry>
        </collision>
        <inertial>
            <mass value="10"/>
            <inertia ixx="0.4" ixy="0.0" ixz="0.0" iyy="0.4" iyz="0.0" izz="0.2" />
        </inertial>
    </link>    
    <joint name="curve_out_front_left6" type="fixed">
        <origin rpy="0 0 -0.8728" xyz="0 7 0"/>
        <parent link="left_in"/>
        <child link="curve_out_fl_6"/>
    </joint>

    <link name="curve_out_fl_7">
        <visual>
            <origin xyz="0 0 0" rpy="0 0 0" />
            <geometry>
                <mesh filename='meshes/basic_racetrack_out_curve.stl'/>
            </geometry>
            <material name="red">
                <color rgba="0.8 0.1 0.0 1"/>
            </material>
        </visual>
        <collision>
            <origin xyz="0 0 0" rpy="0 0 0" />
            <geometry>
                <mesh filename='meshes/basic_racetrack_out_curve.stl'/>
            </geometry>
        </collision>
        <inertial>
            <mass value="10"/>
            <inertia ixx="0.4" ixy="0.0" ixz="0.0" iyy="0.4" iyz="0.0" izz="0.2" />
        </inertial>
    </link>    
    <joint name="curve_out_front_left7" type="fixed">
        <origin rpy="0 0 -1.04736" xyz="0 7 0"/>
        <parent link="left_in"/>
        <child link="curve_out_fl_7"/>
    </joint>

    <link name="curve_out_fl_8">
        <visual>
            <origin xyz="0 0 0" rpy="0 0 0" />
            <geometry>
                <mesh filename='meshes/basic_racetrack_out_curve.stl'/>
            </geometry>
            <material name="red">
                <color rgba="0.8 0.1 0.0 1"/>
            </material>
        </visual>
        <collision>
            <origin xyz="0 0 0" rpy="0 0 0" />
            <geometry>
                <mesh filename='meshes/basic_racetrack_out_curve.stl'/>
            </geometry>
        </collision>
        <inertial>
            <mass value="10"/>
            <inertia ixx="0.4" ixy="0.0" ixz="0.0" iyy="0.4" iyz="0.0" izz="0.2" />
        </inertial>
    </link>    
    <joint name="curve_out_front_left8" type="fixed">
        <origin rpy="0 0 -1.22192" xyz="0 7 0"/>
        <parent link="left_in"/>
        <child link="curve_out_fl_8"/>
    </joint> 

    <link name="curve_out_fl_9">
        <visual>
            <origin xyz="0 0 0" rpy="0 0 0" />
            <geometry>
                <mesh filename='meshes/basic_racetrack_out_curve.stl'/>
            </geometry>
            <material name="red">
                <color rgba="0.8 0.1 0.0 1"/>
            </material>
        </visual>
        <collision>
            <origin xyz="0 0 0" rpy="0 0 0" />
            <geometry>
                <mesh filename='meshes/basic_racetrack_out_curve.stl'/>
            </geometry>
        </collision>
        <inertial>
            <mass value="10"/>
            <inertia ixx="0.4" ixy="0.0" ixz="0.0" iyy="0.4" iyz="0.0" izz="0.2" />
        </inertial>
    </link>    
    <joint name="curve_out_front_left9" type="fixed">
        <origin rpy="0 0 -1.39648" xyz="0 7 0"/>
        <parent link="left_in"/>
        <child link="curve_out_fl_9"/>
    </joint>

    <!-- FRONT LEFT OUTER CURVE END -->

    <!-- BACK LEFT OUTER CURVE START -->

    <link name="curve_out_bl_1">
        <visual>
            <origin xyz="0 0 0" rpy="0 0 0" />
            <geometry>
                <mesh filename='meshes/basic_racetrack_out_curve.stl'/>
            </geometry>
            <material name="red">
                <color rgba="0.8 0.1 0.0 1"/>
            </material>
        </visual>
        <collision>
            <origin xyz="0 0 0" rpy="0 0 0" />
            <geometry>
                <mesh filename='meshes/basic_racetrack_out_curve.stl'/>
            </geometry>
        </collision>
        <inertial>
            <mass value="10"/>
            <inertia ixx="0.4" ixy="0.0" ixz="0.0" iyy="0.4" iyz="0.0" izz="0.2" />
        </inertial>
    </link>    
    <joint name="curve_out_back_left1" type="fixed">
        <origin rpy="0 0 0.17456" xyz="0 -7 0"/>
        <parent link="left_in"/>
        <child link="curve_out_bl_1"/>
    </joint>

    <link name="curve_out_bl_2">
        <visual>
            <origin xyz="0 0 0" rpy="0 0 0" />
            <geometry>
                <mesh filename='meshes/basic_racetrack_out_curve.stl'/>
            </geometry>
            <material name="red">
                <color rgba="0.8 0.1 0.0 1"/>
            </material>
        </visual>
        <collision>
            <origin xyz="0 0 0" rpy="0 0 0" />
            <geometry>
                <mesh filename='meshes/basic_racetrack_out_curve.stl'/>
            </geometry>
        </collision>
        <inertial>
            <mass value="10"/>
            <inertia ixx="0.4" ixy="0.0" ixz="0.0" iyy="0.4" iyz="0.0" izz="0.2" />
        </inertial>
    </link>    
    <joint name="curve_out_back_left2" type="fixed">
        <origin rpy="0 0 0.34912" xyz="0 -7 0"/>
        <parent link="left_in"/>
        <child link="curve_out_bl_2"/>
    </joint>

    <link name="curve_out_bl_3">
        <visual>
            <origin xyz="0 0 0" rpy="0 0 0" />
            <geometry>
                <mesh filename='meshes/basic_racetrack_out_curve.stl'/>
            </geometry>
            <material name="red">
                <color rgba="0.8 0.1 0.0 1"/>
            </material>
        </visual>
        <collision>
            <origin xyz="0 0 0" rpy="0 0 0" />
            <geometry>
                <mesh filename='meshes/basic_racetrack_out_curve.stl'/>
            </geometry>
        </collision>
        <inertial>
            <mass value="10"/>
            <inertia ixx="0.4" ixy="0.0" ixz="0.0" iyy="0.4" iyz="0.0" izz="0.2" />
        </inertial>
    </link>    
    <joint name="curve_out_back_left3" type="fixed">
        <origin rpy="0 0 0.52368" xyz="0 -7 0"/>
        <parent link="left_in"/>
        <child link="curve_out_bl_3"/>
    </joint>

    <link name="curve_out_bl_4">
        <visual>
            <origin xyz="0 0 0" rpy="0 0 0" />
            <geometry>
                <mesh filename='meshes/basic_racetrack_out_curve.stl'/>
            </geometry>
            <material name="red">
                <color rgba="0.8 0.1 0.0 1"/>
            </material>
        </visual>
        <collision>
            <origin xyz="0 0 0" rpy="0 0 0" />
            <geometry>
                <mesh filename='meshes/basic_racetrack_out_curve.stl'/>
            </geometry>
        </collision>
        <inertial>
            <mass value="10"/>
            <inertia ixx="0.4" ixy="0.0" ixz="0.0" iyy="0.4" iyz="0.0" izz="0.2" />
        </inertial>
    </link>    
    <joint name="curve_out_back_left4" type="fixed">
        <origin rpy="0 0 0.69824" xyz="0 -7 0"/>
        <parent link="left_in"/>
        <child link="curve_out_bl_4"/>
    </joint>

    <link name="curve_out_bl_5">
        <visual>
            <origin xyz="0 0 0" rpy="0 0 0" />
            <geometry>
                <mesh filename='meshes/basic_racetrack_out_curve.stl'/>
            </geometry>
            <material name="red">
                <color rgba="0.8 0.1 0.0 1"/>
            </material>
        </visual>
        <collision>
            <origin xyz="0 0 0" rpy="0 0 0" />
            <geometry>
                <mesh filename='meshes/basic_racetrack_out_curve.stl'/>
            </geometry>
        </collision>
        <inertial>
            <mass value="10"/>
            <inertia ixx="0.4" ixy="0.0" ixz="0.0" iyy="0.4" iyz="0.0" izz="0.2" />
        </inertial>
    </link>    
    <joint name="curve_out_back_left5" type="fixed">
        <origin rpy="0 0 0.8728" xyz="0 -7 0"/>
        <parent link="left_in"/>
        <child link="curve_out_bl_5"/>
    </joint>

    <link name="curve_out_bl_6">
        <visual>
            <origin xyz="0 0 0" rpy="0 0 0" />
            <geometry>
                <mesh filename='meshes/basic_racetrack_out_curve.stl'/>
            </geometry>
            <material name="red">
                <color rgba="0.8 0.1 0.0 1"/>
            </material>
        </visual>
        <collision>
            <origin xyz="0 0 0" rpy="0 0 0" />
            <geometry>
                <mesh filename='meshes/basic_racetrack_out_curve.stl'/>
            </geometry>
        </collision>
        <inertial>
            <mass value="10"/>
            <inertia ixx="0.4" ixy="0.0" ixz="0.0" iyy="0.4" iyz="0.0" izz="0.2" />
        </inertial>
    </link>    
    <joint name="curve_out_back_left6" type="fixed">
        <origin rpy="0 0 1.04736" xyz="0 -7 0"/>
        <parent link="left_in"/>
        <child link="curve_out_bl_6"/>
    </joint>

    <link name="curve_out_bl_7">
        <visual>
            <origin xyz="0 0 0" rpy="0 0 0" />
            <geometry>
                <mesh filename='meshes/basic_racetrack_out_curve.stl'/>
            </geometry>
            <material name="red">
                <color rgba="0.8 0.1 0.0 1"/>
            </material>
        </visual>
        <collision>
            <origin xyz="0 0 0" rpy="0 0 0" />
            <geometry>
                <mesh filename='meshes/basic_racetrack_out_curve.stl'/>
            </geometry>
        </collision>
        <inertial>
            <mass value="10"/>
            <inertia ixx="0.4" ixy="0.0" ixz="0.0" iyy="0.4" iyz="0.0" izz="0.2" />
        </inertial>
    </link>    
    <joint name="curve_out_back_left7" type="fixed">
        <origin rpy="0 0 1.22192" xyz="0 -7 0"/>
        <parent link="left_in"/>
        <child link="curve_out_bl_7"/>
    </joint>

    <link name="curve_out_bl_8">
        <visual>
            <origin xyz="0 0 0" rpy="0 0 0" />
            <geometry>
                <mesh filename='meshes/basic_racetrack_out_curve.stl'/>
            </geometry>
            <material name="red">
                <color rgba="0.8 0.1 0.0 1"/>
            </material>
        </visual>
        <collision>
            <origin xyz="0 0 0" rpy="0 0 0" />
            <geometry>
                <mesh filename='meshes/basic_racetrack_out_curve.stl'/>
            </geometry>
        </collision>
        <inertial>
            <mass value="10"/>
            <inertia ixx="0.4" ixy="0.0" ixz="0.0" iyy="0.4" iyz="0.0" izz="0.2" />
        </inertial>
    </link>    
    <joint name="curve_out_back_left8" type="fixed">
        <origin rpy="0 0 1.39648" xyz="0 -7 0"/>
        <parent link="left_in"/>
        <child link="curve_out_bl_8"/>
    </joint>
    
    <link name="curve_out_bl_9">
        <visual>
            <origin xyz="0 0 0" rpy="0 0 0" />
            <geometry>
                <mesh filename='meshes/basic_racetrack_out_curve.stl'/>
            </geometry>
            <material name="red">
                <color rgba="0.8 0.1 0.0 1"/>
            </material>
        </visual>
        <collision>
            <origin xyz="0 0 0" rpy="0 0 0" />
            <geometry>
                <mesh filename='meshes/basic_racetrack_out_curve.stl'/>
            </geometry>
        </collision>
        <inertial>
            <mass value="10"/>
            <inertia ixx="0.4" ixy="0.0" ixz="0.0" iyy="0.4" iyz="0.0" izz="0.2" />
        </inertial>
    </link>    
    <joint name="curve_out_back_left9" type="fixed">
        <origin rpy="0 0 1.57104" xyz="0 -7 0"/>
        <parent link="left_in"/>
        <child link="curve_out_bl_9"/>
    </joint>

    <!-- BACK LEFT OUTER CURVE END -->

    <!-- FRONT RIGHT OUTER CURVE START -->

    <link name="curve_out_fr_1">
        <visual>
            <origin xyz="0 0 0" rpy="0 0 0" />
            <geometry>
                <mesh filename='meshes/basic_racetrack_out_curve.stl'/>
            </geometry>
            <material name="red">
                <color rgba="0.8 0.1 0.0 1"/>
            </material>
        </visual>
        <collision>
            <origin xyz="0 0 0" rpy="0 0 0" />
            <geometry>
                <mesh filename='meshes/basic_racetrack_out_curve.stl'/>
            </geometry>
        </collision>
        <inertial>
            <mass value="10"/>
            <inertia ixx="0.4" ixy="0.0" ixz="0.0" iyy="0.4" iyz="0.0" izz="0.2" />
        </inertial>
    </link>    
    <joint name="curve_out_front_right1" type="fixed">
        <origin rpy="0 0 -1.57104" xyz="0 7 0"/>
        <parent link="left_in"/>
        <child link="curve_out_fr_1"/>
    </joint>

    <link name="curve_out_fr_2">
        <visual>
            <origin xyz="0 0 0" rpy="0 0 0" />
            <geometry>
                <mesh filename='meshes/basic_racetrack_out_curve.stl'/>
            </geometry>
            <material name="red">
                <color rgba="0.8 0.1 0.0 1"/>
            </material>
        </visual>
        <collision>
            <origin xyz="0 0 0" rpy="0 0 0" />
            <geometry>
                <mesh filename='meshes/basic_racetrack_out_curve.stl'/>
            </geometry>
        </collision>
        <inertial>
            <mass value="10"/>
            <inertia ixx="0.4" ixy="0.0" ixz="0.0" iyy="0.4" iyz="0.0" izz="0.2" />
        </inertial>
    </link>    
    <joint name="curve_out_front_right2" type="fixed">
        <origin rpy="0 0 -1.7456" xyz="0 7 0"/>
        <parent link="left_in"/>
        <child link="curve_out_fr_2"/>
    </joint>

    <link name="curve_out_fr_3">
        <visual>
            <origin xyz="0 0 0" rpy="0 0 0" />
            <geometry>
                <mesh filename='meshes/basic_racetrack_out_curve.stl'/>
            </geometry>
            <material name="red">
                <color rgba="0.8 0.1 0.0 1"/>
            </material>
        </visual>
        <collision>
            <origin xyz="0 0 0" rpy="0 0 0" />
            <geometry>
                <mesh filename='meshes/basic_racetrack_out_curve.stl'/>
            </geometry>
        </collision>
        <inertial>
            <mass value="10"/>
            <inertia ixx="0.4" ixy="0.0" ixz="0.0" iyy="0.4" iyz="0.0" izz="0.2" />
        </inertial>
    </link>    
    <joint name="curve_out_front_right3" type="fixed">
        <origin rpy="0 0 -1.92016" xyz="0 7 0"/>
        <parent link="left_in"/>
        <child link="curve_out_fr_3"/>
    </joint>

    <link name="curve_out_fr_4">
        <visual>
            <origin xyz="0 0 0" rpy="0 0 0" />
            <geometry>
                <mesh filename='meshes/basic_racetrack_out_curve.stl'/>
            </geometry>
            <material name="red">
                <color rgba="0.8 0.1 0.0 1"/>
            </material>
        </visual>
        <collision>
            <origin xyz="0 0 0" rpy="0 0 0" />
            <geometry>
                <mesh filename='meshes/basic_racetrack_out_curve.stl'/>
            </geometry>
        </collision>
        <inertial>
            <mass value="10"/>
            <inertia ixx="0.4" ixy="0.0" ixz="0.0" iyy="0.4" iyz="0.0" izz="0.2" />
        </inertial>
    </link>    
    <joint name="curve_out_front_right4" type="fixed">
        <origin rpy="0 0 -2.09472" xyz="0 7 0"/>
        <parent link="left_in"/>
        <child link="curve_out_fr_4"/>
    </joint>

    <link name="curve_out_fr_5">
        <visual>
            <origin xyz="0 0 0" rpy="0 0 0" />
            <geometry>
                <mesh filename='meshes/basic_racetrack_out_curve.stl'/>
            </geometry>
            <material name="red">
                <color rgba="0.8 0.1 0.0 1"/>
            </material>
        </visual>
        <collision>
            <origin xyz="0 0 0" rpy="0 0 0" />
            <geometry>
                <mesh filename='meshes/basic_racetrack_out_curve.stl'/>
            </geometry>
        </collision>
        <inertial>
            <mass value="10"/>
            <inertia ixx="0.4" ixy="0.0" ixz="0.0" iyy="0.4" iyz="0.0" izz="0.2" />
        </inertial>
    </link>    
    <joint name="curve_out_front_right5" type="fixed">
        <origin rpy="0 0 -2.26928" xyz="0 7 0"/>
        <parent link="left_in"/>
        <child link="curve_out_fr_5"/>
    </joint>

    <link name="curve_out_fr_6">
        <visual>
            <origin xyz="0 0 0" rpy="0 0 0" />
            <geometry>
                <mesh filename='meshes/basic_racetrack_out_curve.stl'/>
            </geometry>
            <material name="red">
                <color rgba="0.8 0.1 0.0 1"/>
            </material>
        </visual>
        <collision>
            <origin xyz="0 0 0" rpy="0 0 0" />
            <geometry>
                <mesh filename='meshes/basic_racetrack_out_curve.stl'/>
            </geometry>
        </collision>
        <inertial>
            <mass value="10"/>
            <inertia ixx="0.4" ixy="0.0" ixz="0.0" iyy="0.4" iyz="0.0" izz="0.2" />
        </inertial>
    </link>    
    <joint name="curve_out_front_right6" type="fixed">
        <origin rpy="0 0 -2.44384" xyz="0 7 0"/>
        <parent link="left_in"/>
        <child link="curve_out_fr_6"/>
    </joint>

    <link name="curve_out_fr_7">
        <visual>
            <origin xyz="0 0 0" rpy="0 0 0" />
            <geometry>
                <mesh filename='meshes/basic_racetrack_out_curve.stl'/>
            </geometry>
            <material name="red">
                <color rgba="0.8 0.1 0.0 1"/>
            </material>
        </visual>
        <collision>
            <origin xyz="0 0 0" rpy="0 0 0" />
            <geometry>
                <mesh filename='meshes/basic_racetrack_out_curve.stl'/>
            </geometry>
        </collision>
        <inertial>
            <mass value="10"/>
            <inertia ixx="0.4" ixy="0.0" ixz="0.0" iyy="0.4" iyz="0.0" izz="0.2" />
        </inertial>
    </link>    
    <joint name="curve_out_front_right7" type="fixed">
        <origin rpy="0 0 -2.6184" xyz="0 7 0"/>
        <parent link="left_in"/>
        <child link="curve_out_fr_7"/>
    </joint>

    <link name="curve_out_fr_8">
        <visual>
            <origin xyz="0 0 0" rpy="0 0 0" />
            <geometry>
                <mesh filename='meshes/basic_racetrack_out_curve.stl'/>
            </geometry>
            <material name="red">
                <color rgba="0.8 0.1 0.0 1"/>
            </material>
        </visual>
        <collision>
            <origin xyz="0 0 0" rpy="0 0 0" />
            <geometry>
                <mesh filename='meshes/basic_racetrack_out_curve.stl'/>
            </geometry>
        </collision>
        <inertial>
            <mass value="10"/>
            <inertia ixx="0.4" ixy="0.0" ixz="0.0" iyy="0.4" iyz="0.0" izz="0.2" />
        </inertial>
    </link>    
    <joint name="curve_out_front_right8" type="fixed">
        <origin rpy="0 0 -2.79296" xyz="0 7 0"/>
        <parent link="left_in"/>
        <child link="curve_out_fr_8"/>
    </joint>

    <link name="curve_out_fr_9">
        <visual>
            <origin xyz="0 0 0" rpy="0 0 0" />
            <geometry>
                <mesh filename='meshes/basic_racetrack_out_curve.stl'/>
            </geometry>
            <material name="red">
                <color rgba="0.8 0.1 0.0 1"/>
            </material>
        </visual>
        <collision>
            <origin xyz="0 0 0" rpy="0 0 0" />
            <geometry>
                <mesh filename='meshes/basic_racetrack_out_curve.stl'/>
            </geometry>
        </collision>
        <inertial>
            <mass value="10"/>
            <inertia ixx="0.4" ixy="0.0" ixz="0.0" iyy="0.4" iyz="0.0" izz="0.2" />
        </inertial>
    </link>    
    <joint name="curve_out_front_right9" type="fixed">
        <origin rpy="0 0 -2.96752" xyz="0 7 0"/>
        <parent link="left_in"/>
        <child link="curve_out_fr_9"/>
    </joint>

    <!-- FRONT RIGHT OUTER CURVE END -->

    <!-- BACK RIGHT OUTER CURVE START -->

    <link name="curve_out_br_1">
        <visual>
            <origin xyz="0 0 0" rpy="0 0 0" />
            <geometry>
                <mesh filename='meshes/basic_racetrack_out_curve.stl'/>
            </geometry>
            <material name="red">
                <color rgba="0.8 0.1 0.0 1"/>
            </material>
        </visual>
        <collision>
            <origin xyz="0 0 0" rpy="0 0 0" />
            <geometry>
                <mesh filename='meshes/basic_racetrack_out_curve.stl'/>
            </geometry>
        </collision>
        <inertial>
            <mass value="10"/>
            <inertia ixx="0.4" ixy="0.0" ixz="0.0" iyy="0.4" iyz="0.0" izz="0.2" />
        </inertial>
    </link>    
    <joint name="curve_out_back_right1" type="fixed">
        <origin rpy="0 0 1.7456" xyz="0 -7 0"/>
        <parent link="left_in"/>
        <child link="curve_out_br_1"/>
    </joint>

    <link name="curve_out_br_2">
        <visual>
            <origin xyz="0 0 0" rpy="0 0 0" />
            <geometry>
                <mesh filename='meshes/basic_racetrack_out_curve.stl'/>
            </geometry>
            <material name="red">
                <color rgba="0.8 0.1 0.0 1"/>
            </material>
        </visual>
        <collision>
            <origin xyz="0 0 0" rpy="0 0 0" />
            <geometry>
                <mesh filename='meshes/basic_racetrack_out_curve.stl'/>
            </geometry>
        </collision>
        <inertial>
            <mass value="10"/>
            <inertia ixx="0.4" ixy="0.0" ixz="0.0" iyy="0.4" iyz="0.0" izz="0.2" />
        </inertial>
    </link>    
    <joint name="curve_out_back_right2" type="fixed">
        <origin rpy="0 0 1.92016" xyz="0 -7 0"/>
        <parent link="left_in"/>
        <child link="curve_out_br_2"/>
    </joint>

    <link name="curve_out_br_3">
        <visual>
            <origin xyz="0 0 0" rpy="0 0 0" />
            <geometry>
                <mesh filename='meshes/basic_racetrack_out_curve.stl'/>
            </geometry>
            <material name="red">
                <color rgba="0.8 0.1 0.0 1"/>
            </material>
        </visual>
        <collision>
            <origin xyz="0 0 0" rpy="0 0 0" />
            <geometry>
                <mesh filename='meshes/basic_racetrack_out_curve.stl'/>
            </geometry>
        </collision>
        <inertial>
            <mass value="10"/>
            <inertia ixx="0.4" ixy="0.0" ixz="0.0" iyy="0.4" iyz="0.0" izz="0.2" />
        </inertial>
    </link>    
    <joint name="curve_out_back_right3" type="fixed">
        <origin rpy="0 0 2.09472" xyz="0 -7 0"/>
        <parent link="left_in"/>
        <child link="curve_out_br_3"/>
    </joint>

    <link name="curve_out_br_4">
        <visual>
            <origin xyz="0 0 0" rpy="0 0 0" />
            <geometry>
                <mesh filename='meshes/basic_racetrack_out_curve.stl'/>
            </geometry>
            <material name="red">
                <color rgba="0.8 0.1 0.0 1"/>
            </material>
        </visual>
        <collision>
            <origin xyz="0 0 0" rpy="0 0 0" />
            <geometry>
                <mesh filename='meshes/basic_racetrack_out_curve.stl'/>
            </geometry>
        </collision>
        <inertial>
            <mass value="10"/>
            <inertia ixx="0.4" ixy="0.0" ixz="0.0" iyy="0.4" iyz="0.0" izz="0.2" />
        </inertial>
    </link>    
    <joint name="curve_out_back_right4" type="fixed">
        <origin rpy="0 0 2.26928" xyz="0 -7 0"/>
        <parent link="left_in"/>
        <child link="curve_out_br_4"/>
    </joint>

    <link name="curve_out_br_5">
        <visual>
            <origin xyz="0 0 0" rpy="0 0 0" />
            <geometry>
                <mesh filename='meshes/basic_racetrack_out_curve.stl'/>
            </geometry>
            <material name="red">
                <color rgba="0.8 0.1 0.0 1"/>
            </material>
        </visual>
        <collision>
            <origin xyz="0 0 0" rpy="0 0 0" />
            <geometry>
                <mesh filename='meshes/basic_racetrack_out_curve.stl'/>
            </geometry>
        </collision>
        <inertial>
            <mass value="10"/>
            <inertia ixx="0.4" ixy="0.0" ixz="0.0" iyy="0.4" iyz="0.0" izz="0.2" />
        </inertial>
    </link>    
    <joint name="curve_out_back_right5" type="fixed">
        <origin rpy="0 0 2.44384" xyz="0 -7 0"/>
        <parent link="left_in"/>
        <child link="curve_out_br_5"/>
    </joint>

    <link name="curve_out_br_6">
        <visual>
            <origin xyz="0 0 0" rpy="0 0 0" />
            <geometry>
                <mesh filename='meshes/basic_racetrack_out_curve.stl'/>
            </geometry>
            <material name="red">
                <color rgba="0.8 0.1 0.0 1"/>
            </material>
        </visual>
        <collision>
            <origin xyz="0 0 0" rpy="0 0 0" />
            <geometry>
                <mesh filename='meshes/basic_racetrack_out_curve.stl'/>
            </geometry>
        </collision>
        <inertial>
            <mass value="10"/>
            <inertia ixx="0.4" ixy="0.0" ixz="0.0" iyy="0.4" iyz="0.0" izz="0.2" />
        </inertial>
    </link>    
    <joint name="curve_out_back_right6" type="fixed">
        <origin rpy="0 0 2.6184" xyz="0 -7 0"/>
        <parent link="left_in"/>
        <child link="curve_out_br_6"/>
    </joint>

    <link name="curve_out_br_7">
        <visual>
            <origin xyz="0 0 0" rpy="0 0 0" />
            <geometry>
                <mesh filename='meshes/basic_racetrack_out_curve.stl'/>
            </geometry>
            <material name="red">
                <color rgba="0.8 0.1 0.0 1"/>
            </material>
        </visual>
        <collision>
            <origin xyz="0 0 0" rpy="0 0 0" />
            <geometry>
                <mesh filename='meshes/basic_racetrack_out_curve.stl'/>
            </geometry>
        </collision>
        <inertial>
            <mass value="10"/>
            <inertia ixx="0.4" ixy="0.0" ixz="0.0" iyy="0.4" iyz="0.0" izz="0.2" />
        </inertial>
    </link>    
    <joint name="curve_out_back_right7" type="fixed">
        <origin rpy="0 0 2.79296" xyz="0 -7 0"/>
        <parent link="left_in"/>
        <child link="curve_out_br_7"/>
    </joint>

    <link name="curve_out_br_8">
        <visual>
            <origin xyz="0 0 0" rpy="0 0 0" />
            <geometry>
                <mesh filename='meshes/basic_racetrack_out_curve.stl'/>
            </geometry>
            <material name="red">
                <color rgba="0.8 0.1 0.0 1"/>
            </material>
        </visual>
        <collision>
            <origin xyz="0 0 0" rpy="0 0 0" />
            <geometry>
                <mesh filename='meshes/basic_racetrack_out_curve.stl'/>
            </geometry>
        </collision>
        <inertial>
            <mass value="10"/>
            <inertia ixx="0.4" ixy="0.0" ixz="0.0" iyy="0.4" iyz="0.0" izz="0.2" />
        </inertial>
    </link>    
    <joint name="curve_out_back_right8" type="fixed">
        <origin rpy="0 0 2.96752" xyz="0 -7 0"/>
        <parent link="left_in"/>
        <child link="curve_out_br_8"/>
    </joint>

    <link name="curve_out_br_9">
        <visual>
            <origin xyz="0 0 0" rpy="0 0 0" />
            <geometry>
                <mesh filename='meshes/basic_racetrack_out_curve.stl'/>
            </geometry>
            <material name="red">
                <color rgba="0.8 0.1 0.0 1"/>
            </material>
        </visual>
        <collision>
            <origin xyz="0 0 0" rpy="0 0 0" />
            <geometry>
                <mesh filename='meshes/basic_racetrack_out_curve.stl'/>
            </geometry>
        </collision>
        <inertial>
            <mass value="10"/>
            <inertia ixx="0.4" ixy="0.0" ixz="0.0" iyy="0.4" iyz="0.0" izz="0.2" />
        </inertial>
    </link>    
    <joint name="curve_out_back_right9" type="fixed">
        <origin rpy="0 0 3.14208" xyz="0 -7 0"/>
        <parent link="left_in"/>
        <child link="curve_out_br_9"/>
    </joint>

    <!-- BACK RIGHT OUTER CURVE END -->
</robot>
